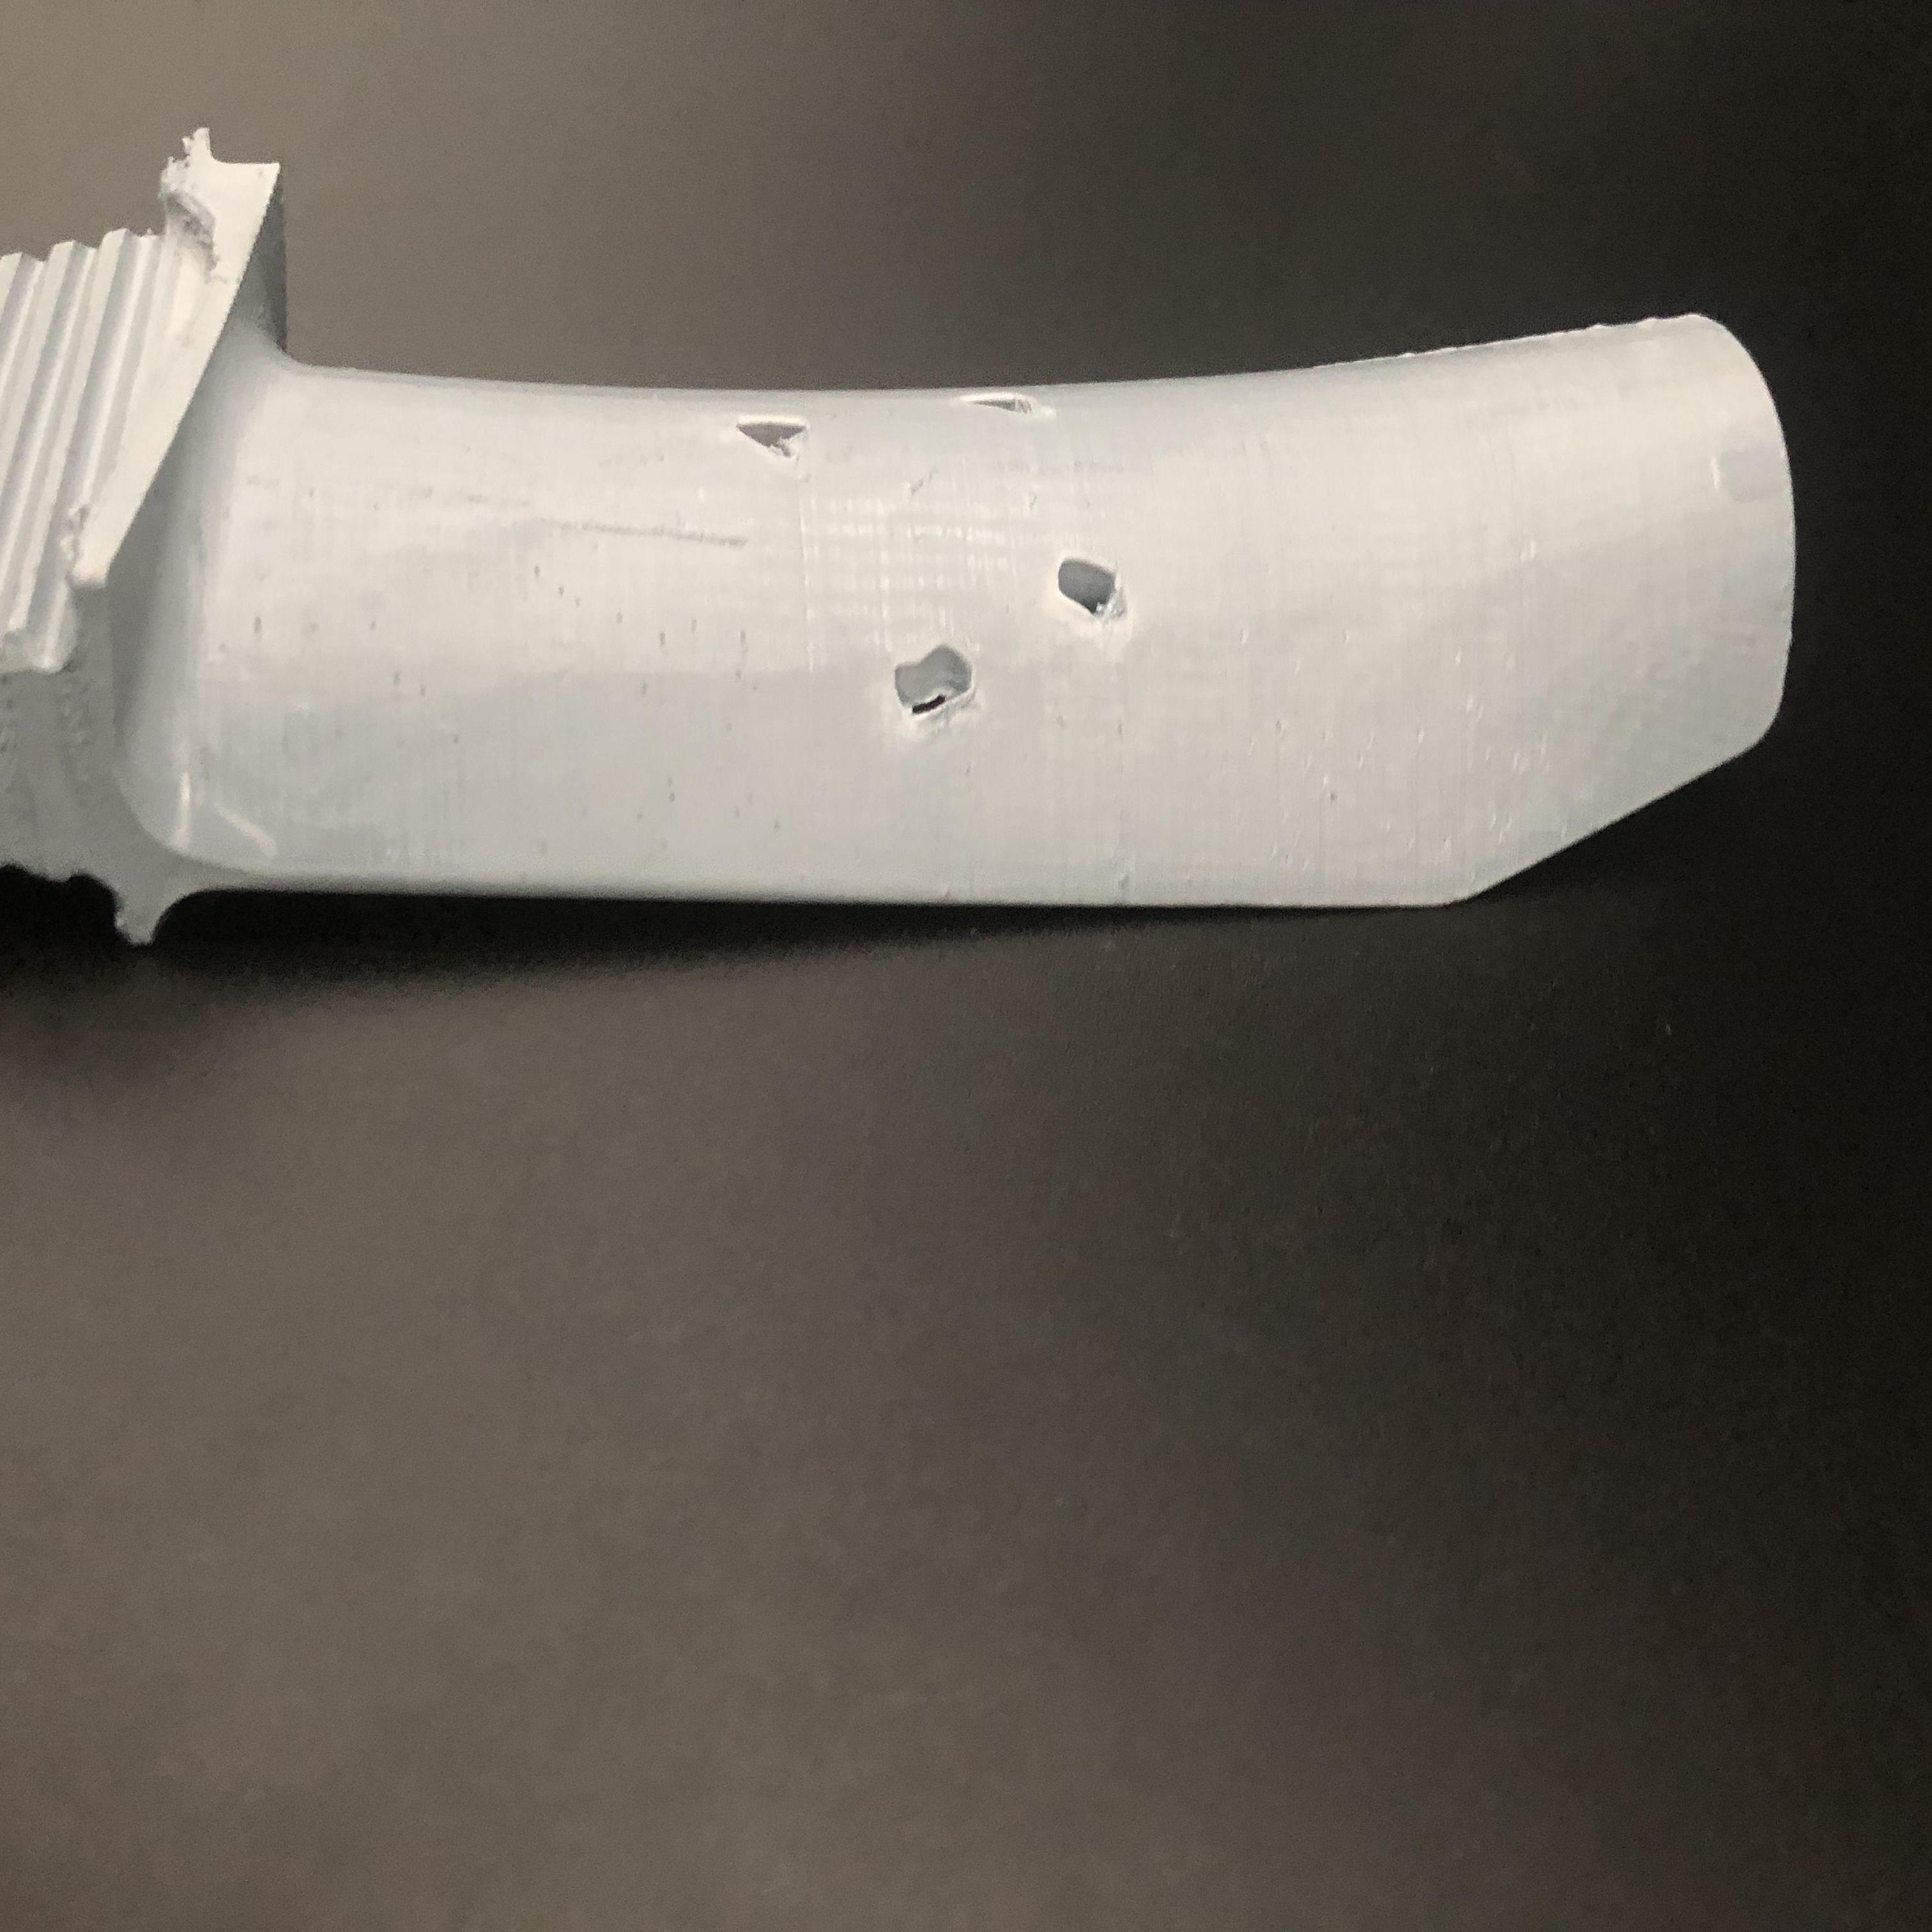breakdown: (886, 559, 1146, 729), (709, 377, 1090, 455)
